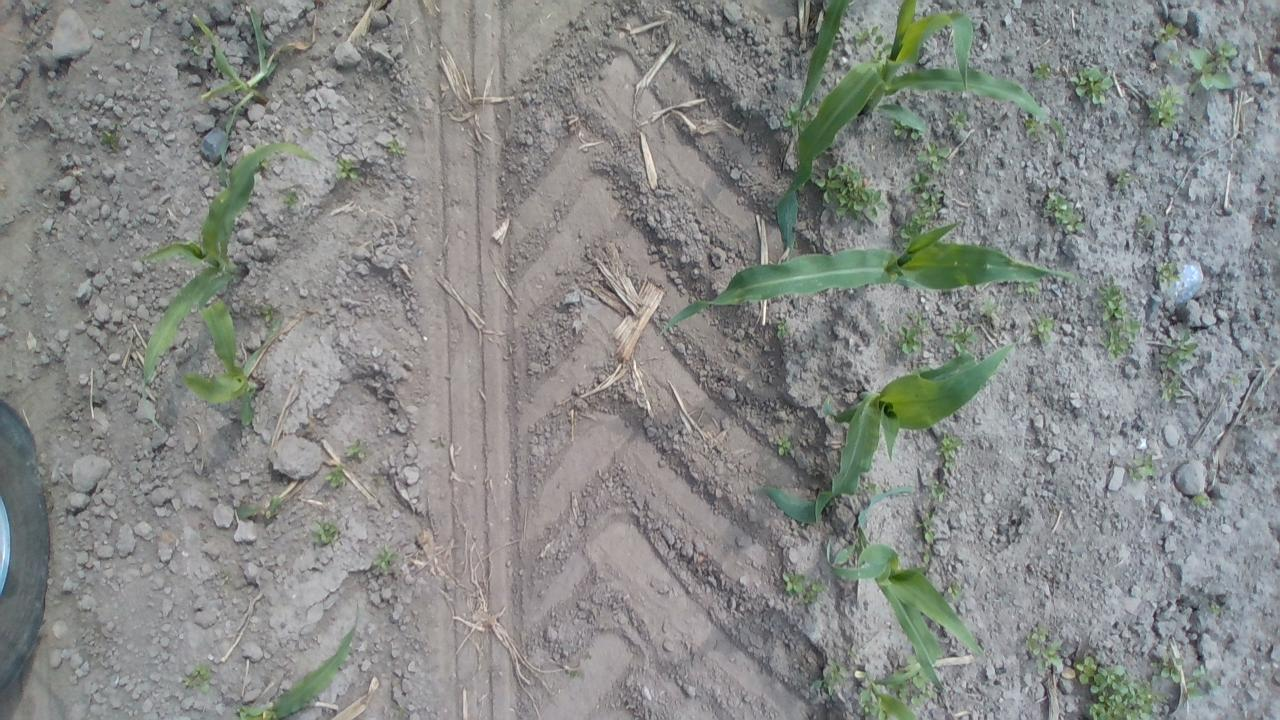Maize: (774, 0, 1070, 263), (648, 219, 1080, 348), (742, 339, 1018, 526), (133, 140, 328, 396), (814, 485, 988, 709), (236, 604, 366, 720), (183, 300, 264, 439), (194, 6, 278, 140), (794, 3, 862, 120)
Weeds: (1068, 656, 1166, 720), (816, 157, 887, 228), (1090, 278, 1144, 356), (1159, 330, 1200, 402), (1184, 40, 1238, 94), (896, 185, 942, 246), (892, 660, 942, 710), (1044, 192, 1094, 242), (1025, 624, 1065, 676), (809, 658, 858, 700), (1068, 62, 1114, 105), (1142, 82, 1184, 129), (236, 494, 292, 526), (896, 308, 929, 354), (782, 574, 829, 606), (1186, 661, 1220, 700), (942, 322, 981, 356), (181, 658, 214, 695), (854, 26, 890, 58), (934, 433, 964, 469), (368, 542, 406, 570), (1126, 452, 1158, 482), (916, 510, 940, 549), (312, 518, 346, 545), (944, 104, 974, 134), (891, 115, 925, 141), (1013, 276, 1047, 301), (258, 302, 284, 334), (976, 300, 1006, 327), (770, 318, 801, 344), (1158, 652, 1180, 686), (344, 436, 371, 463), (1029, 313, 1054, 342), (862, 699, 896, 720), (914, 144, 948, 165), (916, 545, 939, 576), (333, 156, 362, 180), (771, 435, 794, 465), (1111, 169, 1137, 195), (100, 124, 126, 150), (1029, 58, 1054, 84), (324, 464, 351, 488), (1156, 20, 1179, 47), (1156, 258, 1178, 286), (925, 478, 949, 503), (782, 103, 806, 128), (1133, 210, 1156, 236), (944, 576, 966, 603), (385, 136, 413, 157), (1200, 598, 1225, 620), (908, 173, 932, 195), (282, 190, 304, 214), (1189, 489, 1209, 514), (1026, 118, 1046, 140), (184, 36, 201, 58), (1163, 48, 1180, 66)
